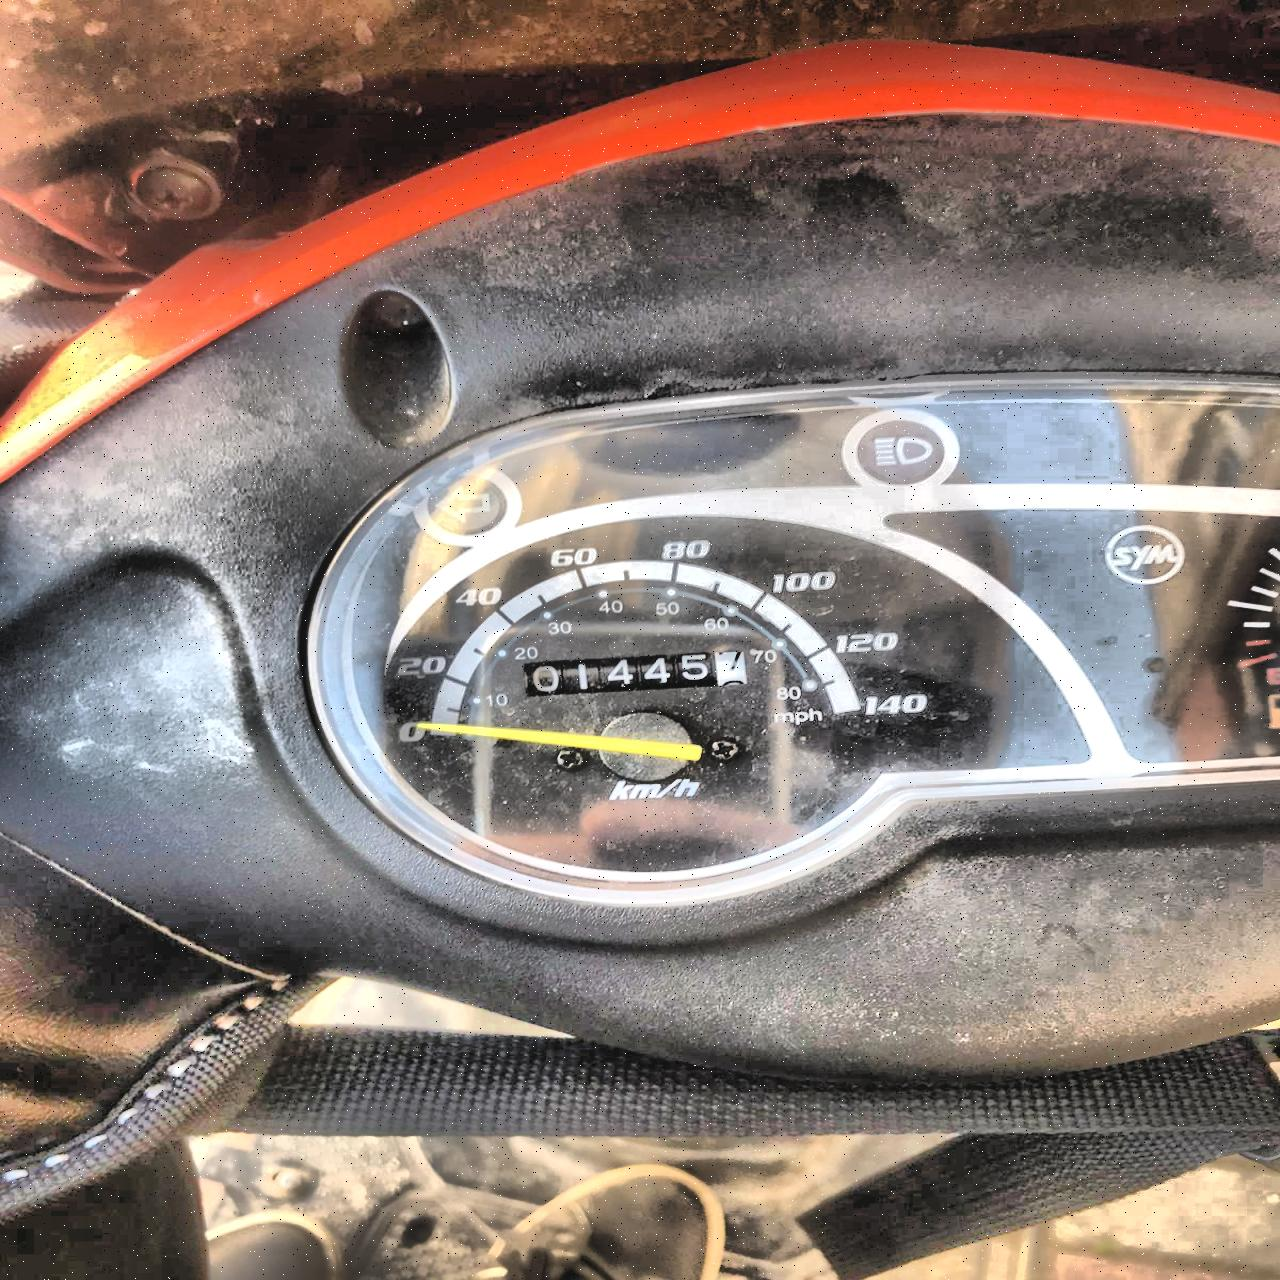0: (530, 662, 561, 692), (526, 644, 540, 659)
1: (573, 659, 592, 692)
4: (605, 658, 636, 686), (642, 656, 672, 683)
5: (679, 651, 709, 680)
7: (716, 647, 743, 672)
odometer: (523, 641, 755, 703)
